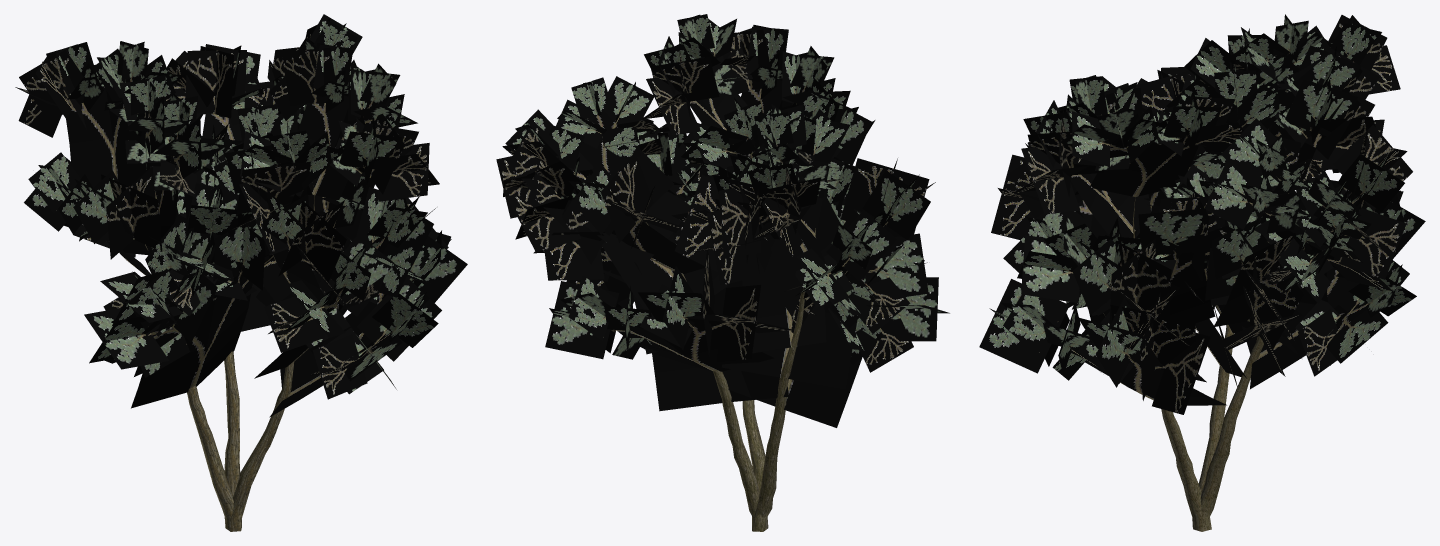
Rendered from whitePoplar1.glb.
3 views of the same model, side by side, from view 1: azimuth 30°, elevation 25°; view 2: azimuth 150°, elevation 25°; view 3: azimuth 270°, elevation 25° (orthographic). The views are drawn at different scales.
Visible parts, largest first — view 1: foliage.015, structure.015; view 2: foliage.015, structure.015; view 3: foliage.015, structure.015.
Part boxes in pixels (x1,y1,x2,y2): foliage.015: [15, 14, 467, 417]; structure.015: [145, 188, 314, 531]; foliage.015: [496, 14, 949, 427]; structure.015: [646, 222, 815, 531]; foliage.015: [979, 14, 1425, 414]; structure.015: [1132, 198, 1263, 531].
Size of the model in its own units: 6.01 by 7.34 by 6.2.
Materials: 2 (2 with a texture image).
